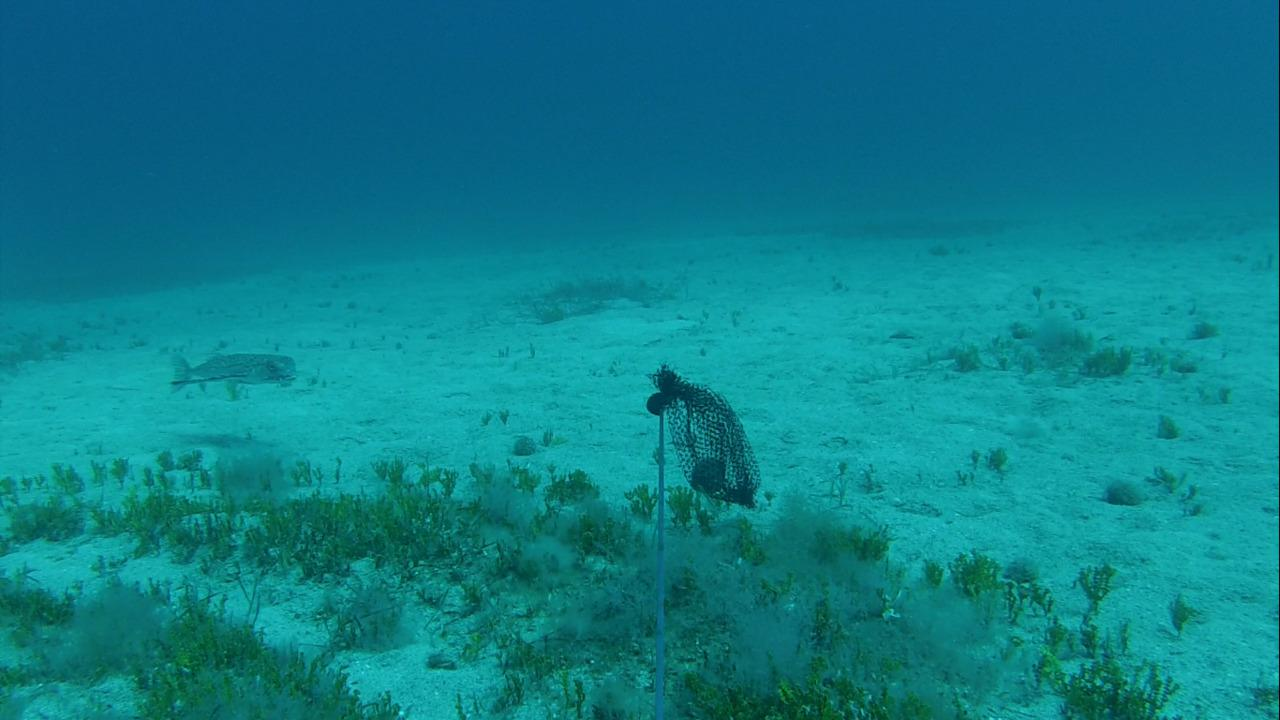dactylopterus: (162, 345, 308, 397)
